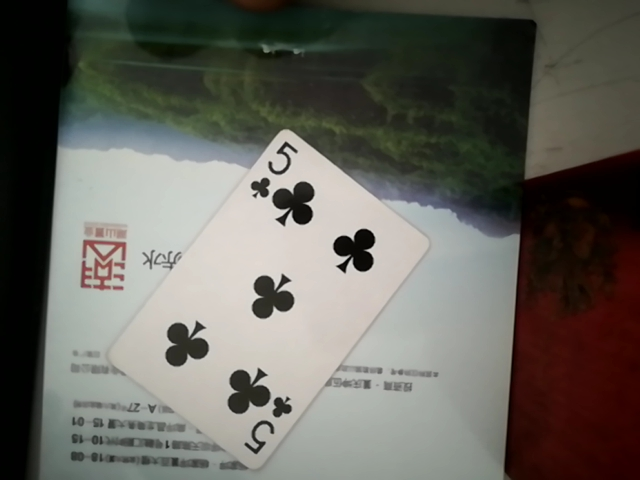mh 5: (109, 124, 420, 458)
